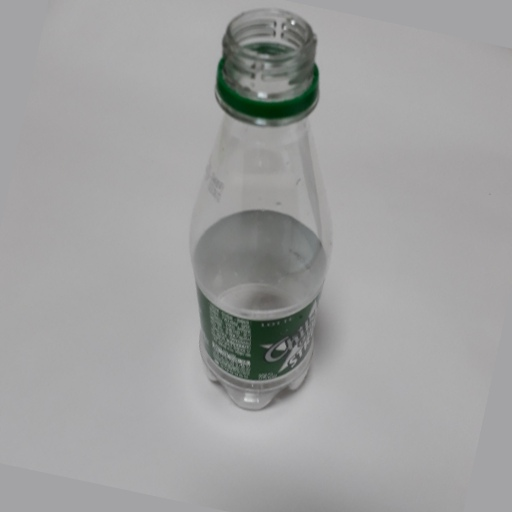Plastic_0: (188, 10, 336, 410)
